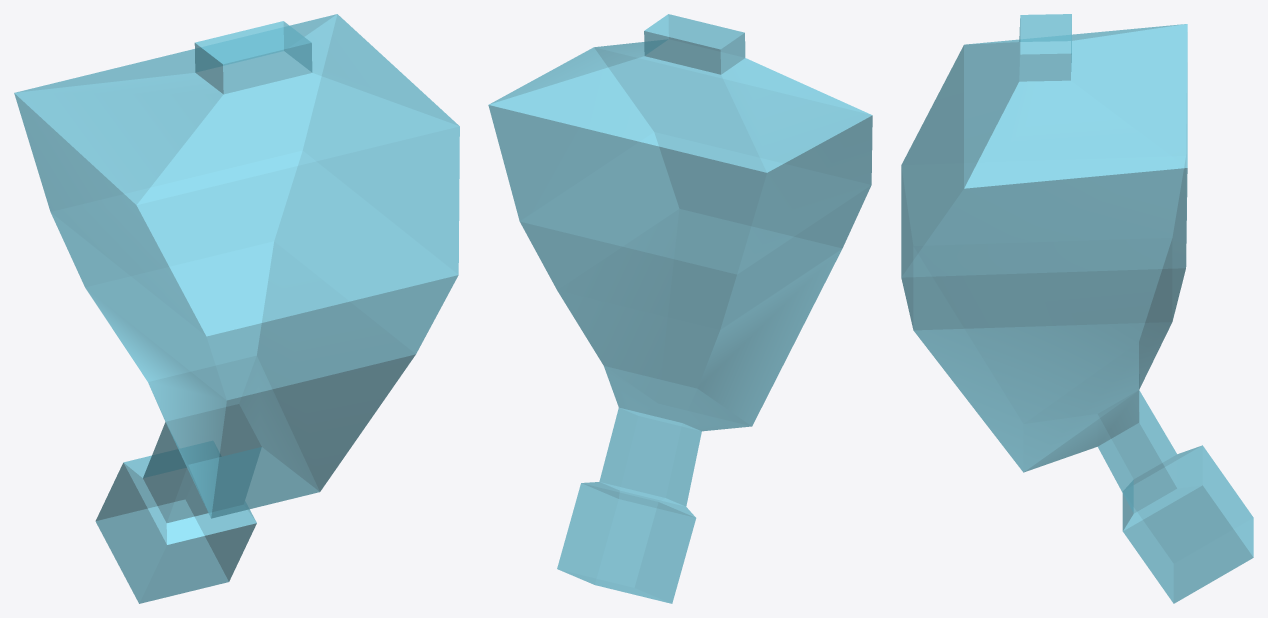
Rendered from AvatarMeshCollider.obj.
3 renders of one model, left to right at view 1: azimuth 30°, elevation 25°; view 2: azimuth 150°, elevation 25°; view 3: azimuth 270°, elevation 25°, orthographic. The views are drawn at different scales.
Visible parts, largest first — view 1: AvatarMeshCollider; view 2: AvatarMeshCollider; view 3: AvatarMeshCollider.
Boxes of the visible parts, box(x1,y1,x2,y2) form: AvatarMeshCollider: box(14, 14, 459, 603); AvatarMeshCollider: box(488, 14, 872, 603); AvatarMeshCollider: box(901, 14, 1253, 603).
Bounding box in the file's own units: 0.3952 × 0.7033 × 0.4086.
